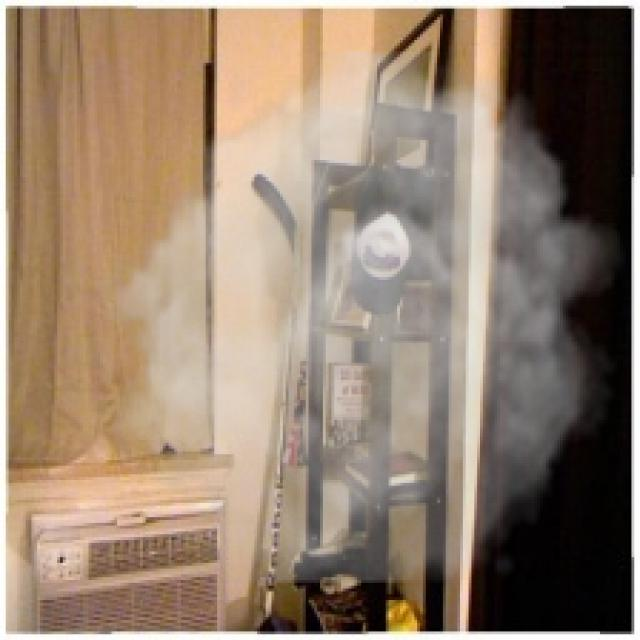smoke: (94, 51, 626, 583)
